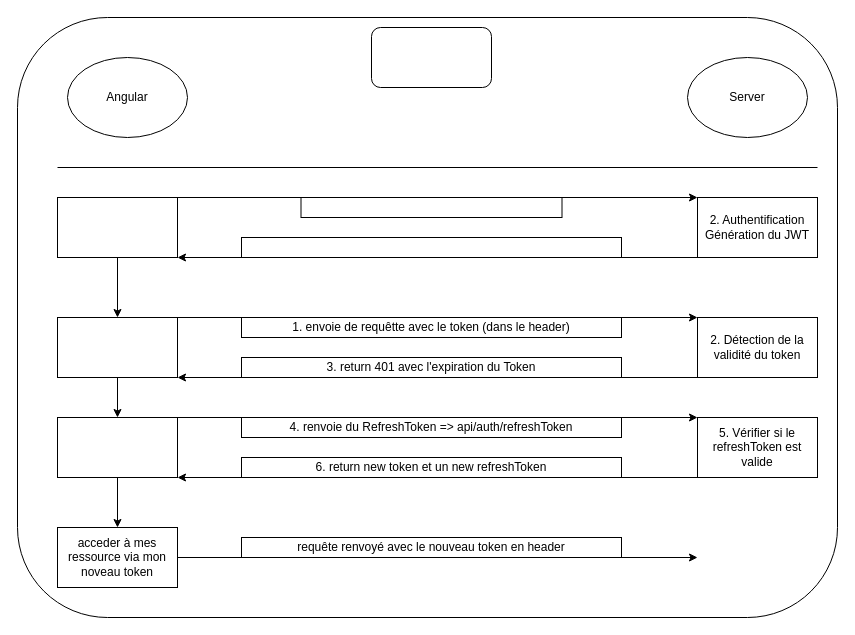
This 855x635 diagram has some shape labels left out. Here are the shapes that lost their labels. From the top down, the centre of each, then its label:
the point at 431,57: Refresh token
the point at 117,227: connexion utilisateur
the point at 431,207: 1. POST => api/auth/login (usernam, password)
the point at 431,247: 3. return => token, refreshToken, infosUtilisateur, autorisations
the point at 117,347: Acceder au serveur avec un token invalide
the point at 117,447: Renvoie du refreshToken (prolongement de la session utilisateur)
